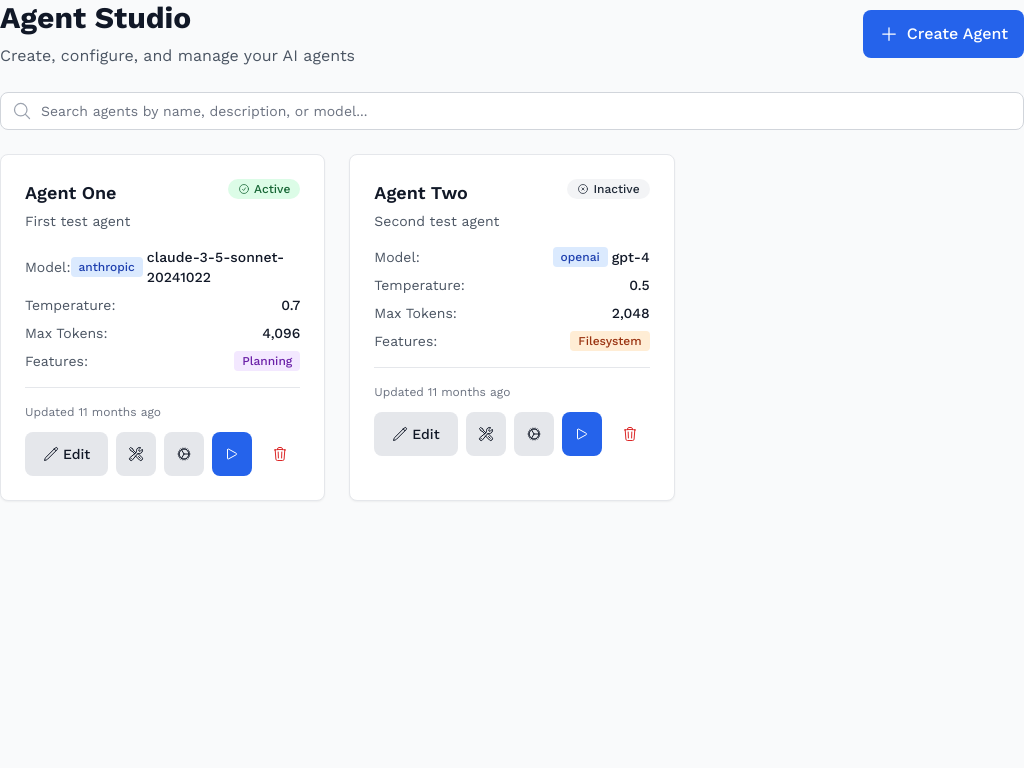
Test: AgentStudio › opens delete modal when delete button clicked
Click the button named "delete agent one".
click(280, 454)  # box [260, 432, 300, 476]
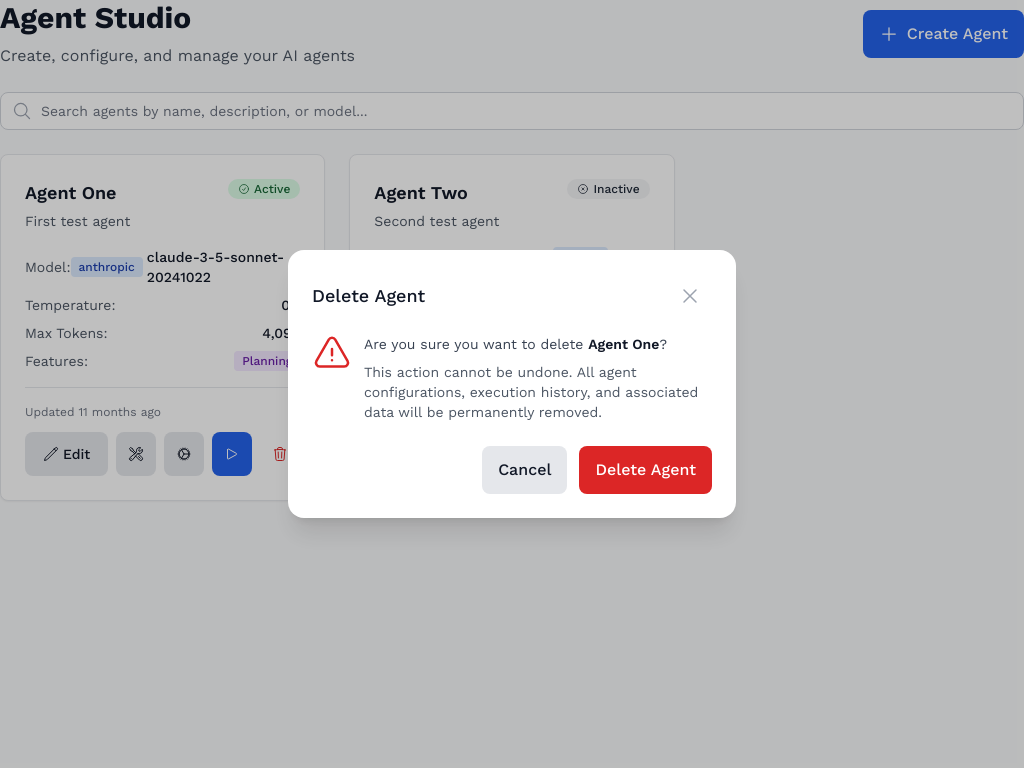
Check: the text "Are you sure you want to delete Agent One?" is shown, box [364, 334, 712, 354]
